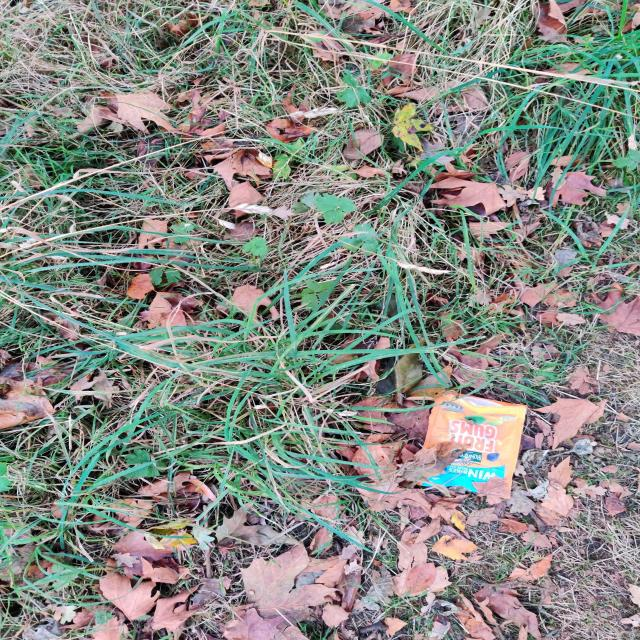litter: (383, 368, 567, 547)
